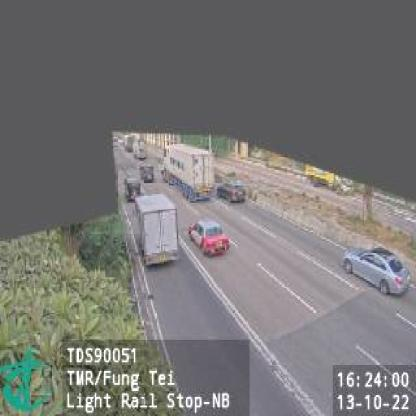Car: (341, 244, 410, 298), (190, 217, 229, 258), (217, 180, 248, 203), (124, 177, 141, 203), (140, 165, 155, 183)
Truck: (158, 145, 215, 204), (135, 193, 180, 266)
